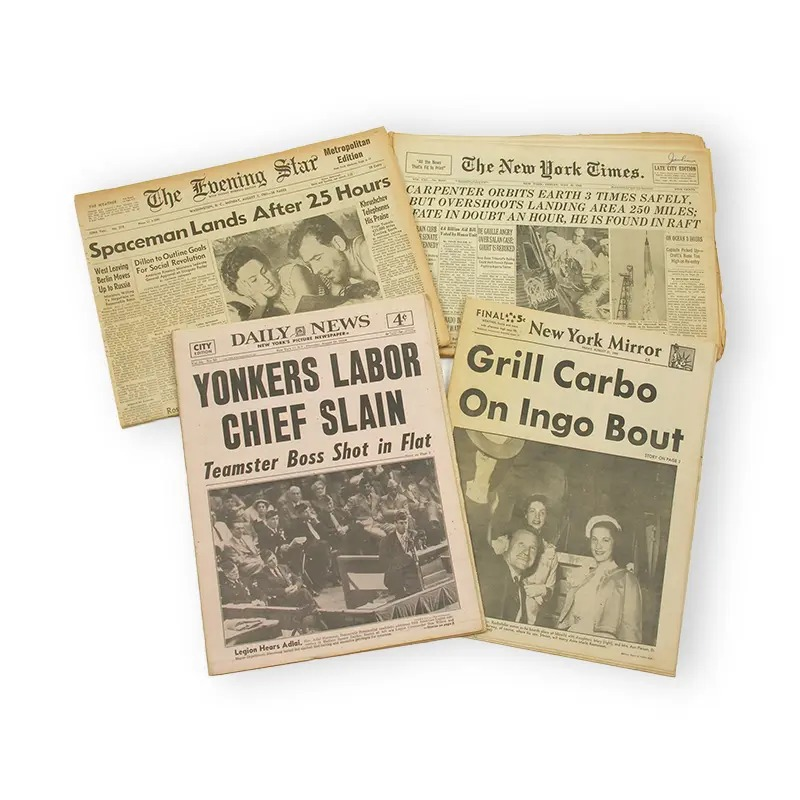news_paper: (47, 111, 512, 476), (405, 251, 744, 731), (356, 94, 773, 481), (150, 289, 489, 715)
